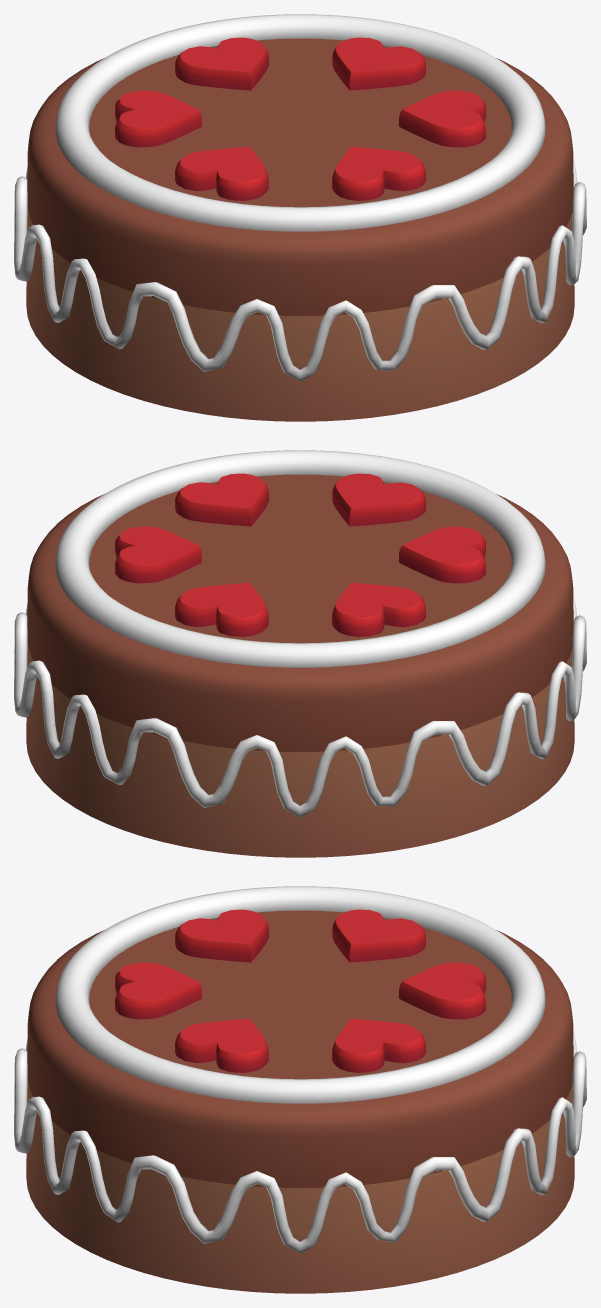
File: cake12.FBX
3 views of the same model, one above another, from view 1: azimuth 30°, elevation 25°; view 2: azimuth 150°, elevation 25°; view 3: azimuth 270°, elevation 25° (orthographic).
Visible parts, largest first — view 1: cake12; view 2: cake12; view 3: cake12.
Part boxes in pixels (box(x1,y1,x2,y2)): cake12: box(14, 14, 586, 421); cake12: box(14, 450, 586, 857); cake12: box(14, 886, 586, 1293).
Size of the model in its own units: 0.0201 by 0.00763 by 0.0202.
